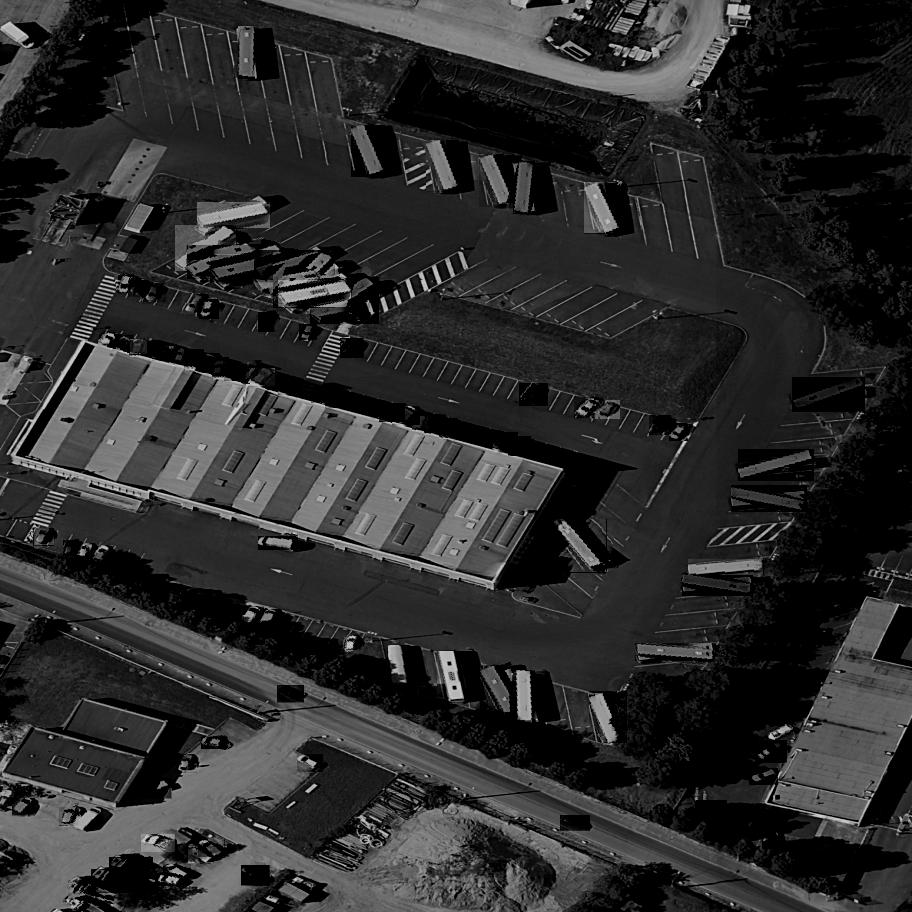large-vehicle: (273, 249, 335, 312), (310, 274, 379, 328), (551, 514, 607, 578), (175, 223, 237, 275), (792, 377, 866, 413), (187, 244, 256, 281), (739, 449, 815, 482), (255, 249, 328, 283), (480, 663, 524, 719), (210, 254, 284, 285), (278, 280, 352, 309), (731, 485, 809, 512), (198, 202, 271, 230), (590, 691, 627, 745), (584, 182, 621, 236), (479, 154, 515, 209), (351, 123, 386, 178), (426, 139, 460, 193), (681, 574, 755, 597), (438, 648, 466, 706), (635, 644, 715, 663), (91, 866, 142, 895), (68, 879, 121, 904), (689, 559, 764, 576), (513, 162, 536, 214), (109, 855, 153, 881), (516, 670, 535, 724), (238, 27, 256, 79), (389, 644, 410, 687)
small-vehicle: (69, 802, 104, 838), (182, 290, 210, 320), (256, 605, 282, 637), (755, 740, 788, 765), (521, 381, 549, 410), (574, 394, 603, 421), (393, 404, 421, 431), (242, 863, 271, 889), (142, 778, 172, 801), (142, 833, 176, 853), (185, 589, 212, 614), (251, 366, 277, 391), (197, 350, 221, 377), (379, 401, 406, 425), (89, 541, 113, 568), (198, 836, 225, 860), (163, 862, 191, 885), (766, 722, 795, 744), (493, 430, 518, 455), (340, 337, 364, 363), (596, 397, 620, 423), (241, 604, 265, 630), (509, 433, 532, 460), (241, 358, 262, 387), (650, 412, 672, 439), (277, 684, 305, 705), (695, 801, 727, 819), (810, 840, 834, 864), (12, 795, 35, 820), (326, 387, 348, 413), (259, 536, 297, 551), (143, 279, 164, 306), (153, 341, 177, 364), (279, 376, 302, 400), (750, 768, 779, 787), (170, 344, 192, 369), (189, 845, 214, 867), (425, 412, 446, 438), (298, 752, 324, 773), (560, 815, 590, 833), (224, 362, 247, 385), (75, 539, 96, 564), (176, 751, 197, 776), (129, 277, 151, 300), (35, 525, 55, 550), (200, 297, 219, 322), (185, 347, 204, 372), (60, 804, 79, 829), (312, 384, 332, 407), (112, 333, 133, 354), (440, 416, 458, 440), (151, 579, 169, 603), (258, 310, 275, 335), (670, 421, 689, 443), (300, 322, 318, 344), (99, 330, 118, 350), (213, 358, 230, 380), (118, 273, 134, 296), (157, 873, 183, 887), (412, 414, 430, 434), (201, 737, 227, 750), (64, 538, 80, 559), (343, 634, 359, 655), (131, 337, 147, 357), (762, 831, 778, 850)
